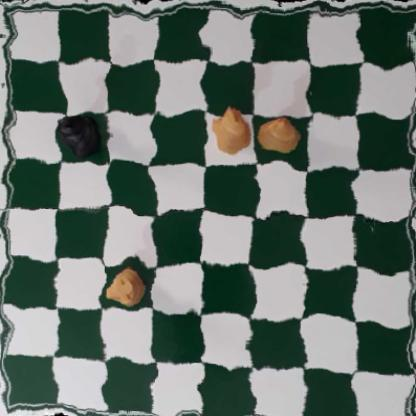black-king: (60, 113, 105, 153)
white-bishop: (257, 115, 296, 156)
white-king: (209, 107, 254, 155)
white-rook: (105, 273, 148, 303)
